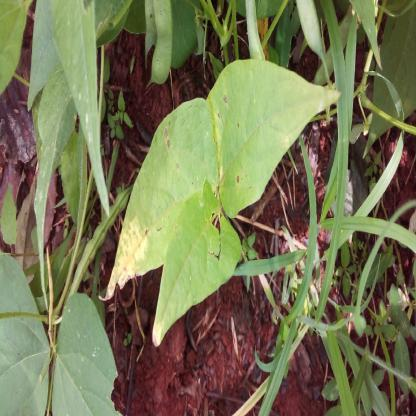Beans_Angular_LeafSpot: (104, 100, 215, 298), (211, 53, 340, 216), (146, 190, 237, 349)
